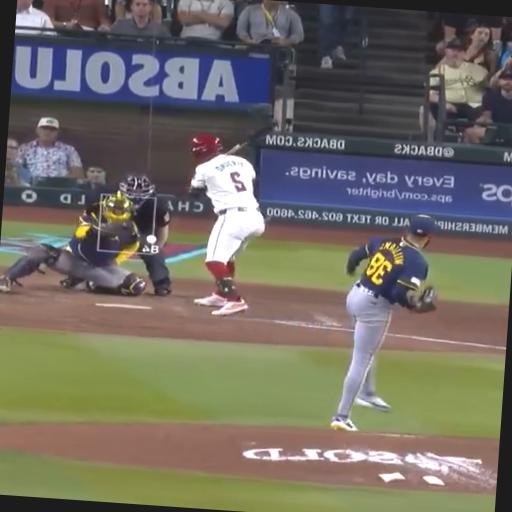bat: (224, 120, 277, 155)
